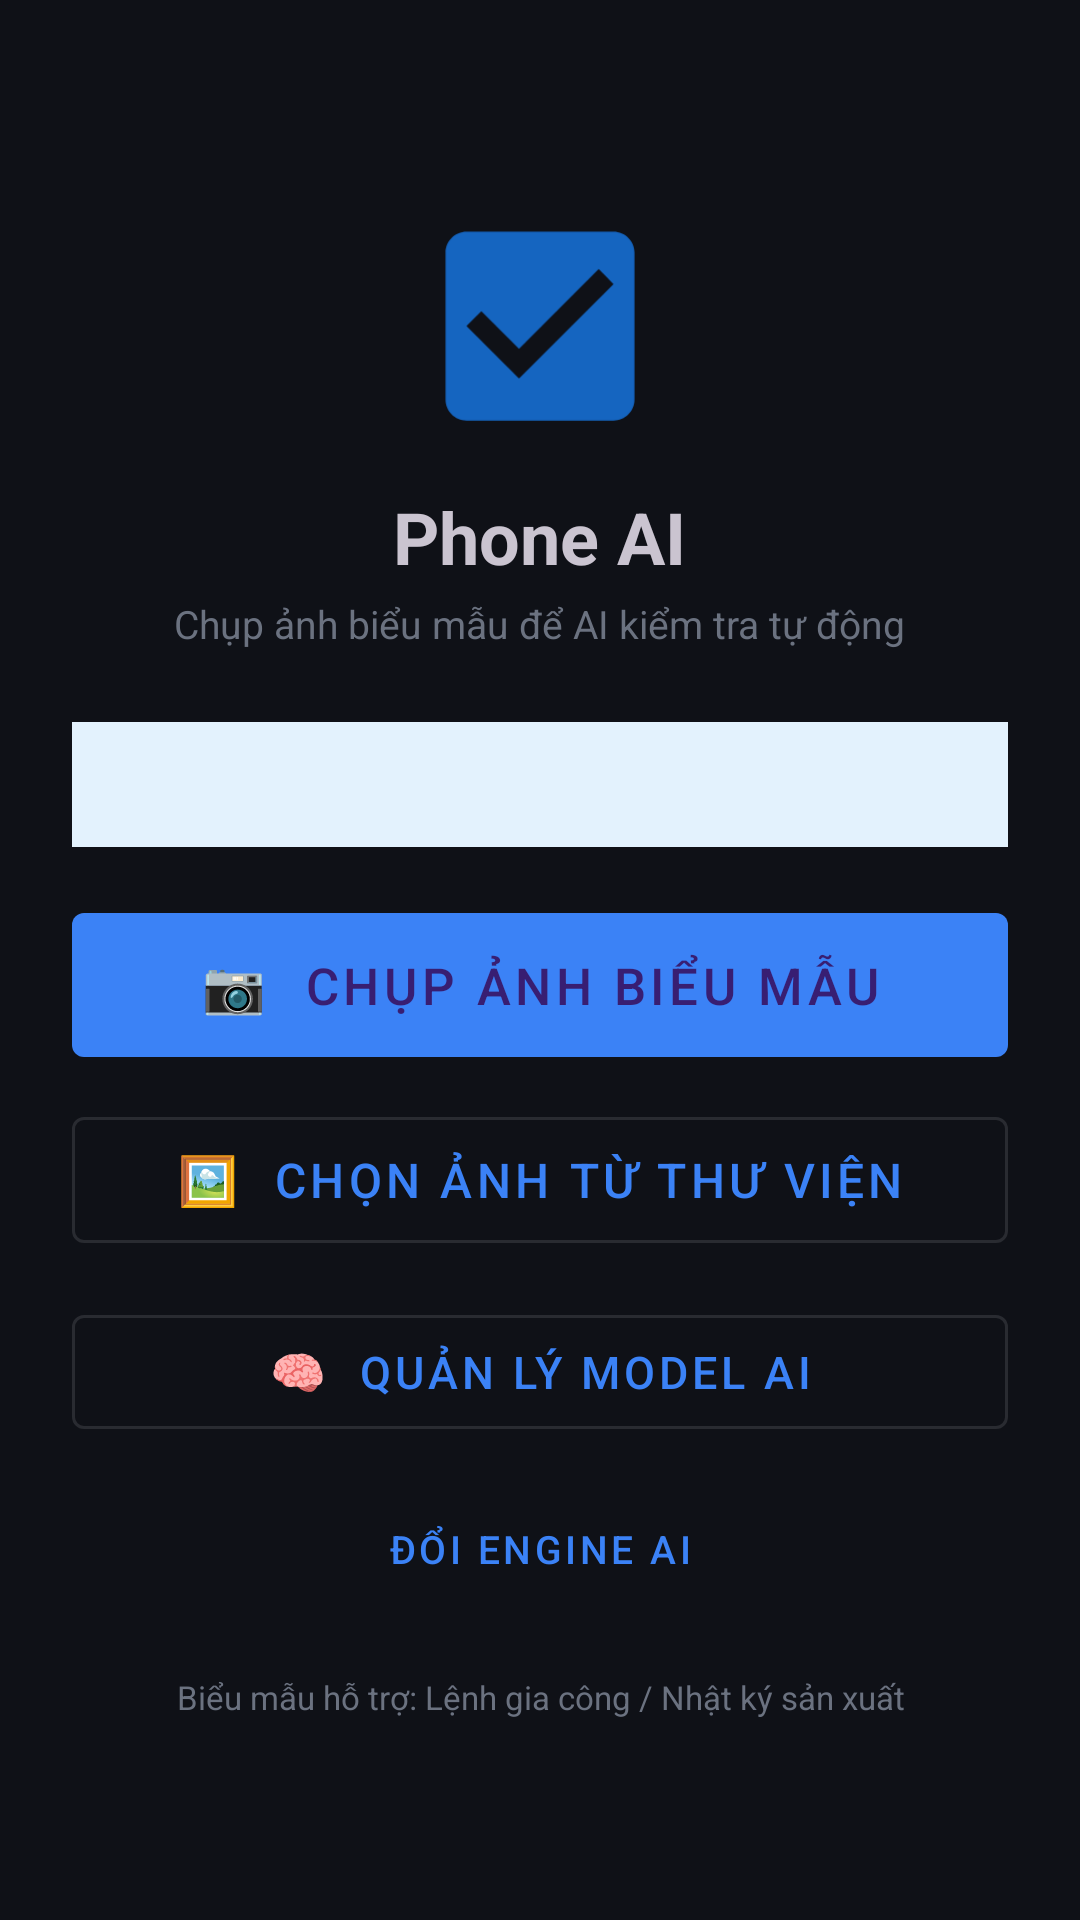

Where to tap for icons on this 1080*1920 app screen, as (x,y):
form check: (540,326)
